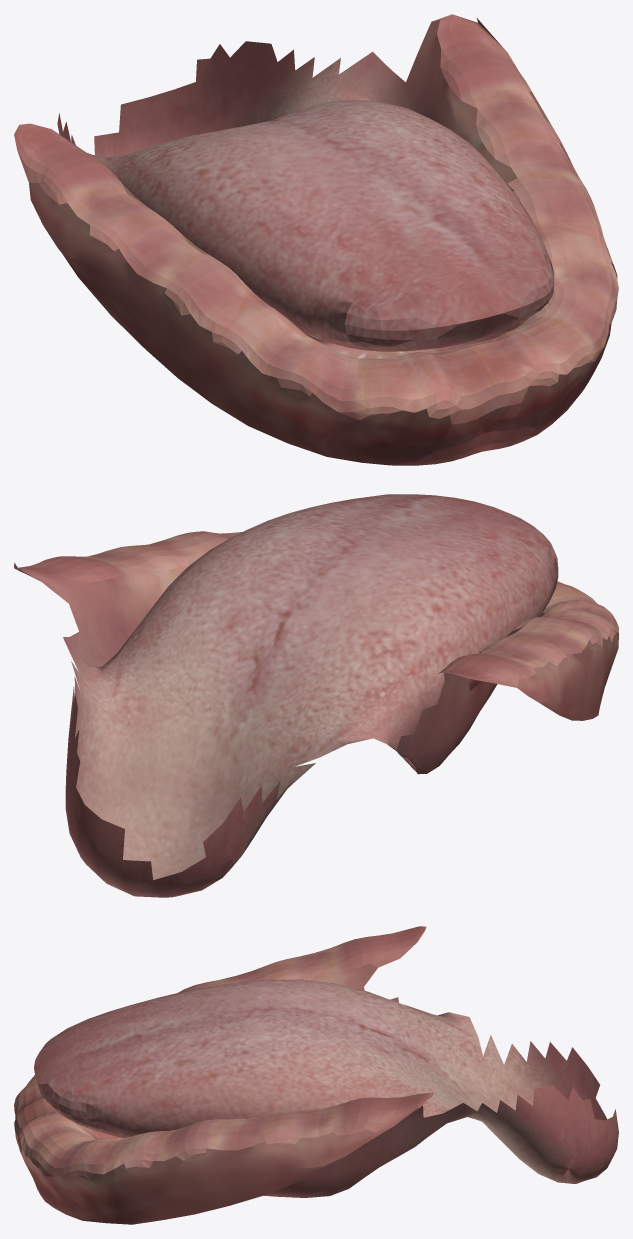
The model's file is Gums Top.obj.
3 renders of one model, top to bottom at view 1: azimuth 30°, elevation 25°; view 2: azimuth 150°, elevation 25°; view 3: azimuth 270°, elevation 25°, orthographic. The views are drawn at different scales.
Parts seen in each view (by area): view 1: Gums Top; view 2: Gums Top; view 3: Gums Top.
Boxes of the visible parts, bbox=[...] form: Gums Top: bbox=[14, 14, 618, 465]; Gums Top: bbox=[14, 494, 618, 897]; Gums Top: bbox=[14, 926, 618, 1224].
Size of the model in its own units: 0.0858 by 0.0345 by 0.1132.
Materials: 1 (1 with a texture image).
